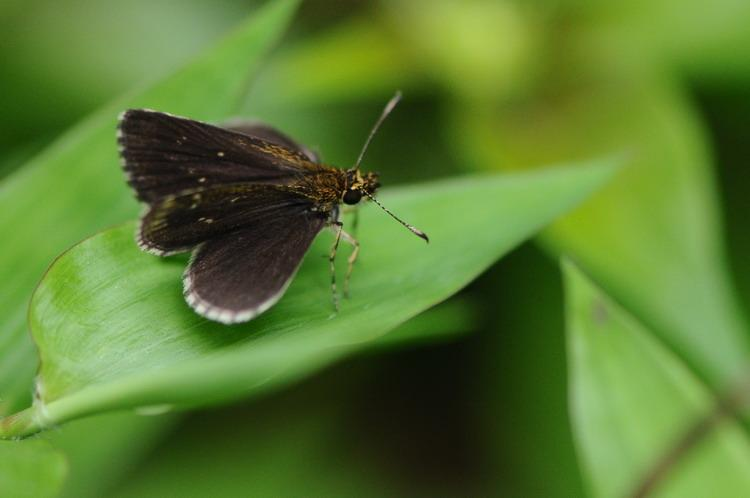Hesperiidae: (111, 85, 429, 336)
